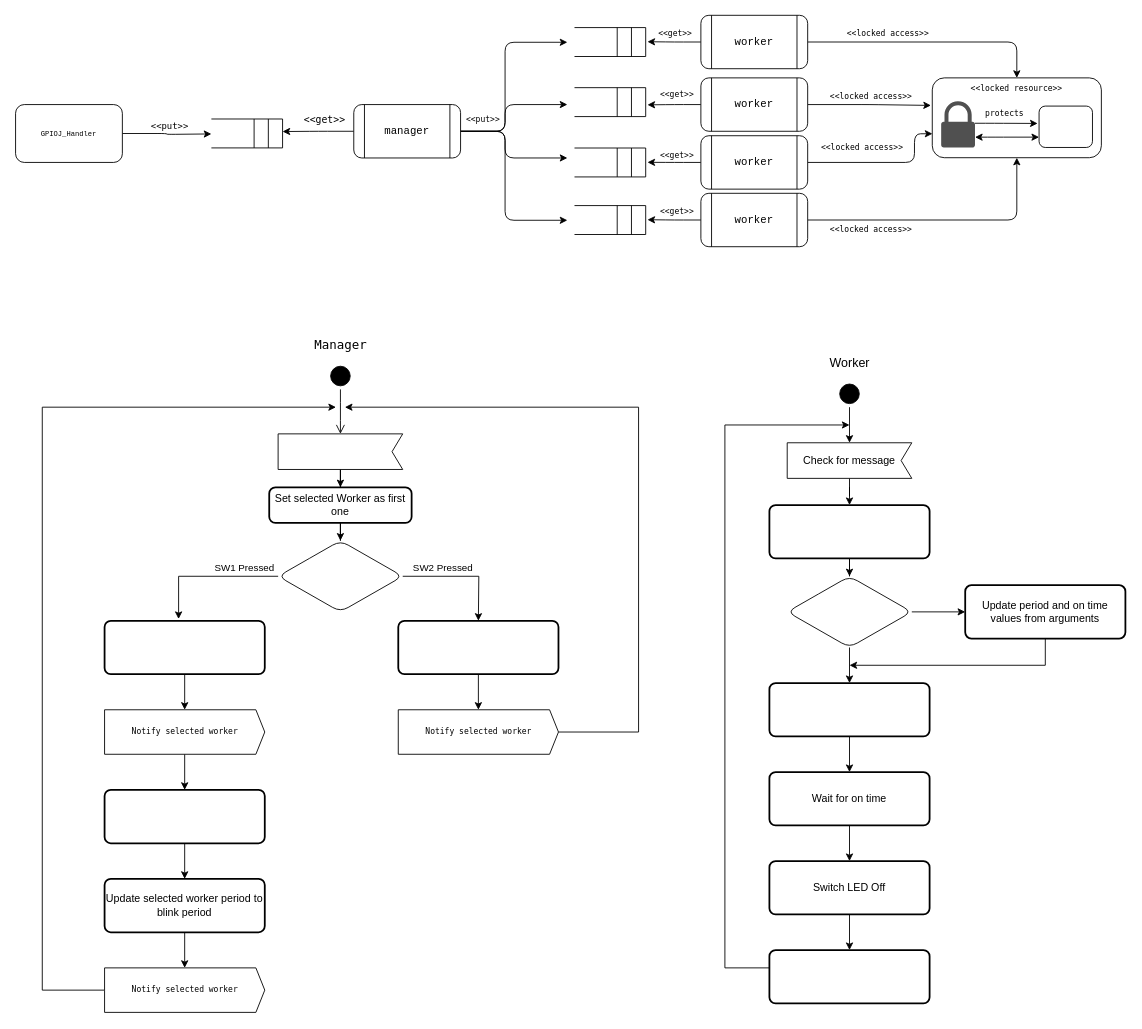
Image size: 1142x1029. Some labels were removed from this diagram. Each missing label, with the centre of its shape:
"<<hw>> LEDs" goes at [1065,126].
"Message received?" goes at [849,611].
"Set period and on time from initial arguments" goes at [849,531].
"Set selected worker as the next one" goes at [184,816].
"Switch LED On" goes at [849,709].
"Update currently selected worker on time" goes at [478,647].
"Update currently selected worker period" goes at [184,647].
"Wait for message" goes at [340,451].
"Wait for period - on time" goes at [849,976].
